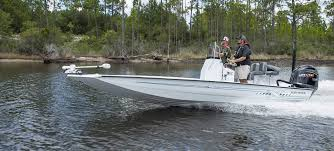boat: (60, 42, 320, 115)
